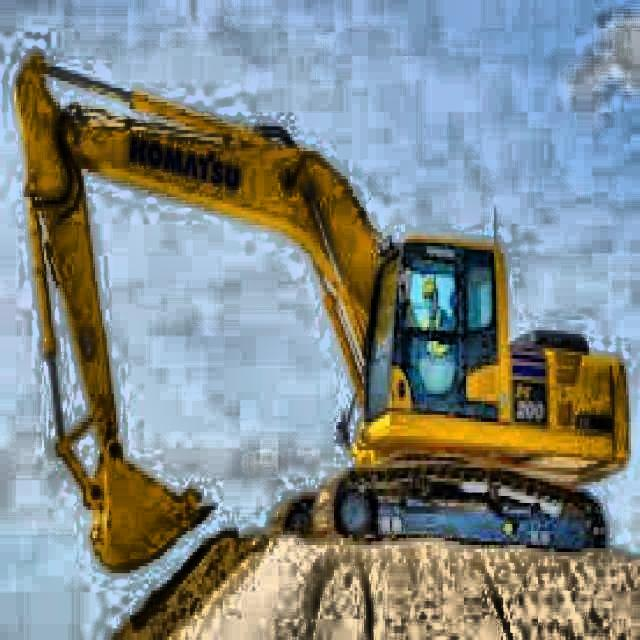bull_dozer/loader/grader: (13, 48, 633, 578)
person: (419, 274, 456, 358)
